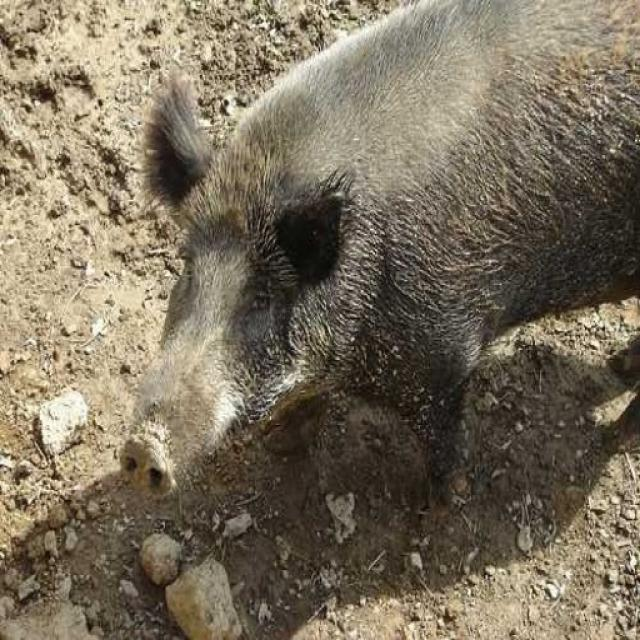pig: (72, 0, 640, 562)
